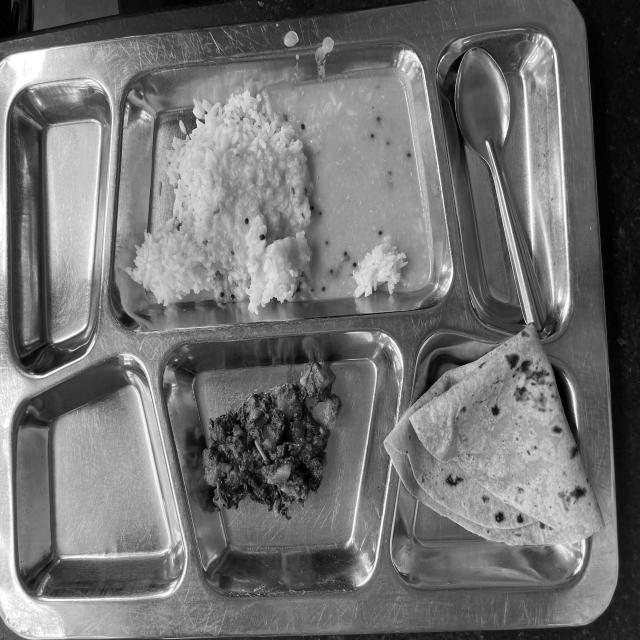70-Food-Left: (8, 62, 601, 595)
